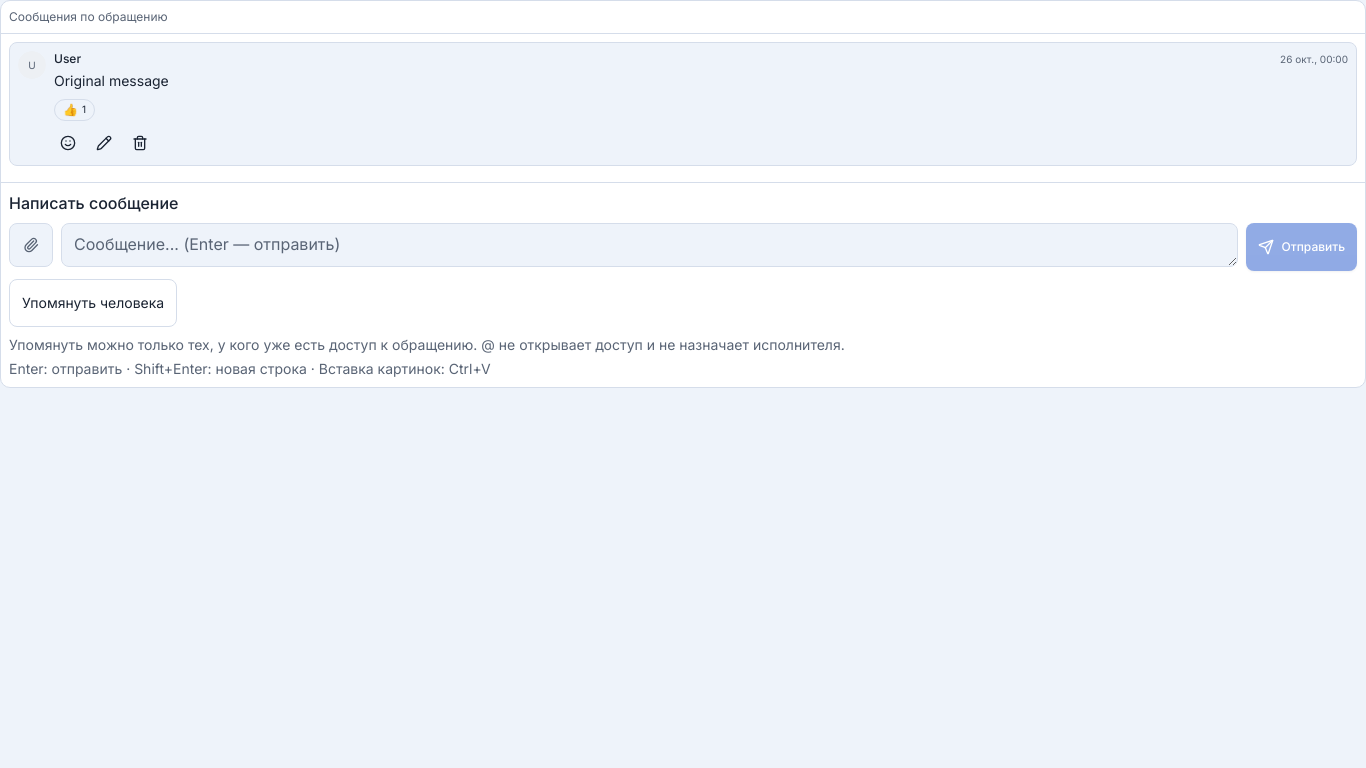
keeps the message editor open and reports a refused versioned save without raw server errors
Expected: the text "Original message" is shown, [54,72,169,89]
Click the button named "Изменить сообщение" at (104, 143), box [90,129,118,157]
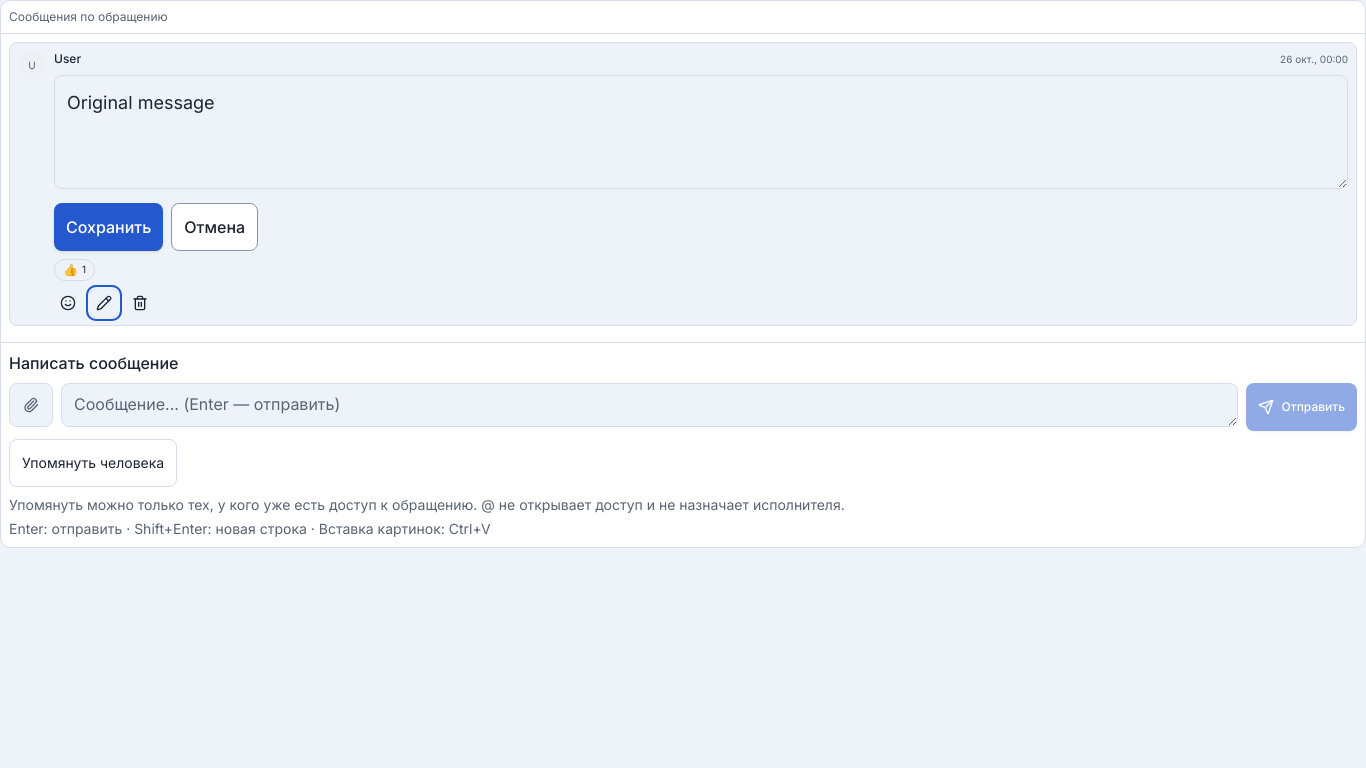
Replace the text in the text box showing "Original message" with "Changed message" at (701, 132), box [54,75,1348,189]
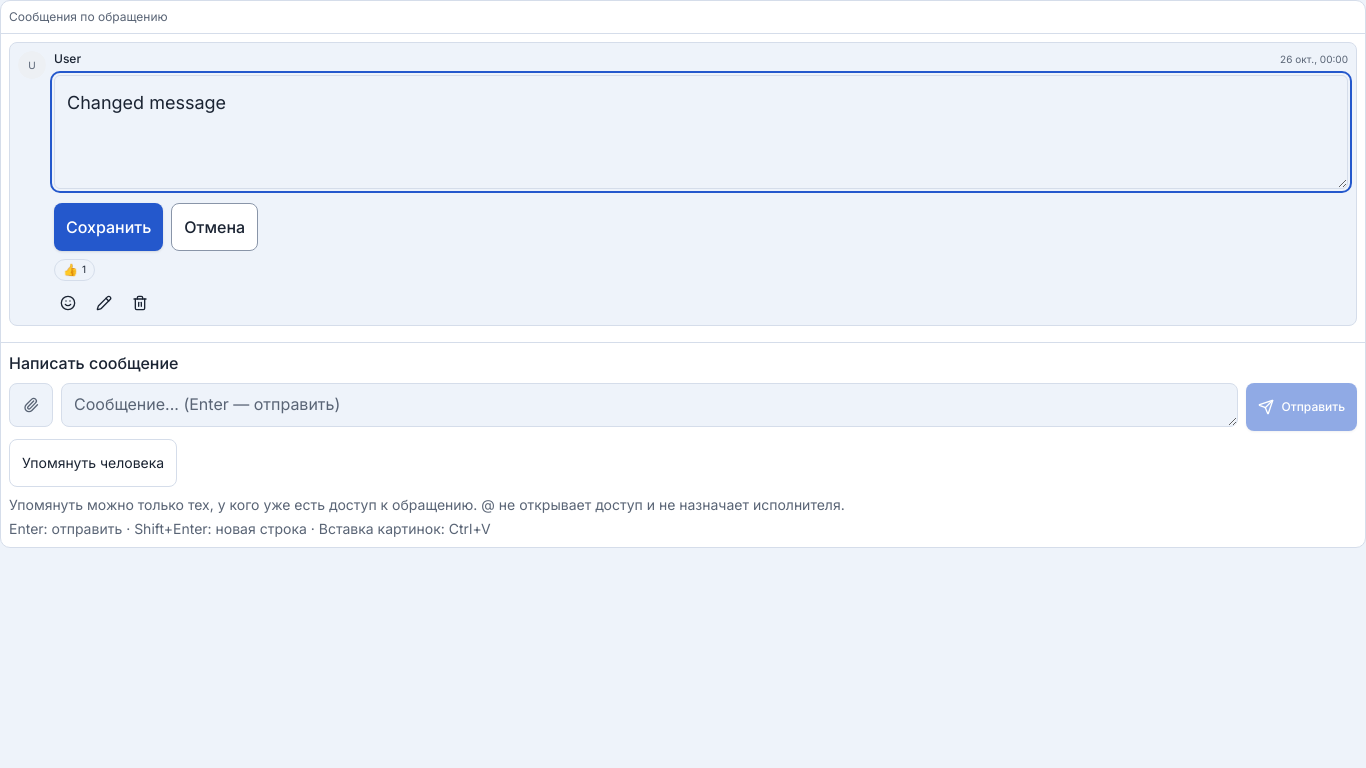
Click the button "Сохранить" at (109, 227), box [54,203,163,251]
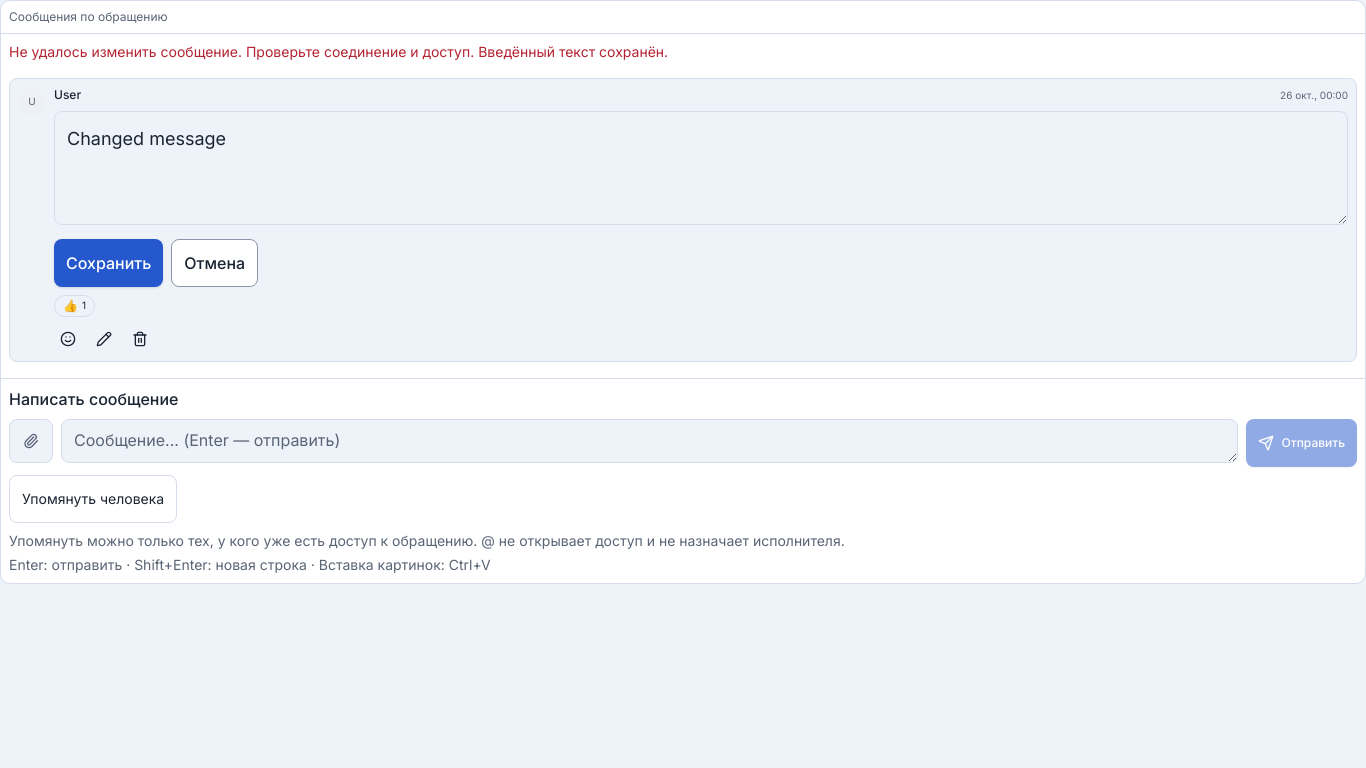
Now the message shows "Не удалось изменить сообщение", box [9,43,668,60]
